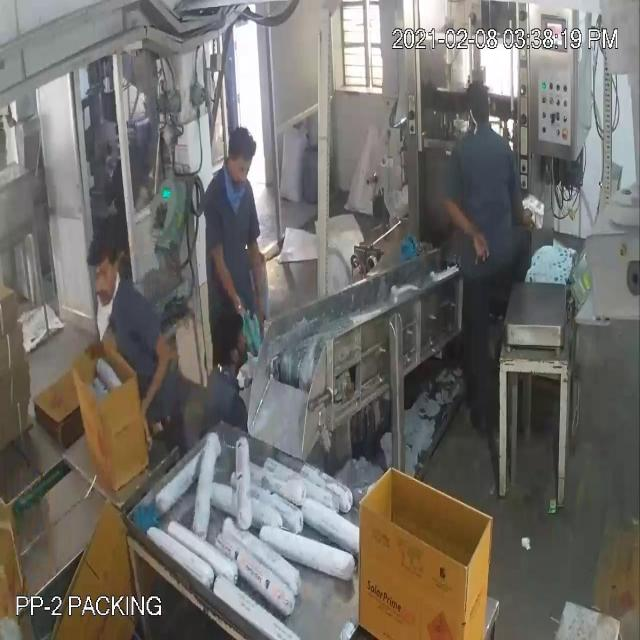No_Gloves: (24, 78, 471, 386)
